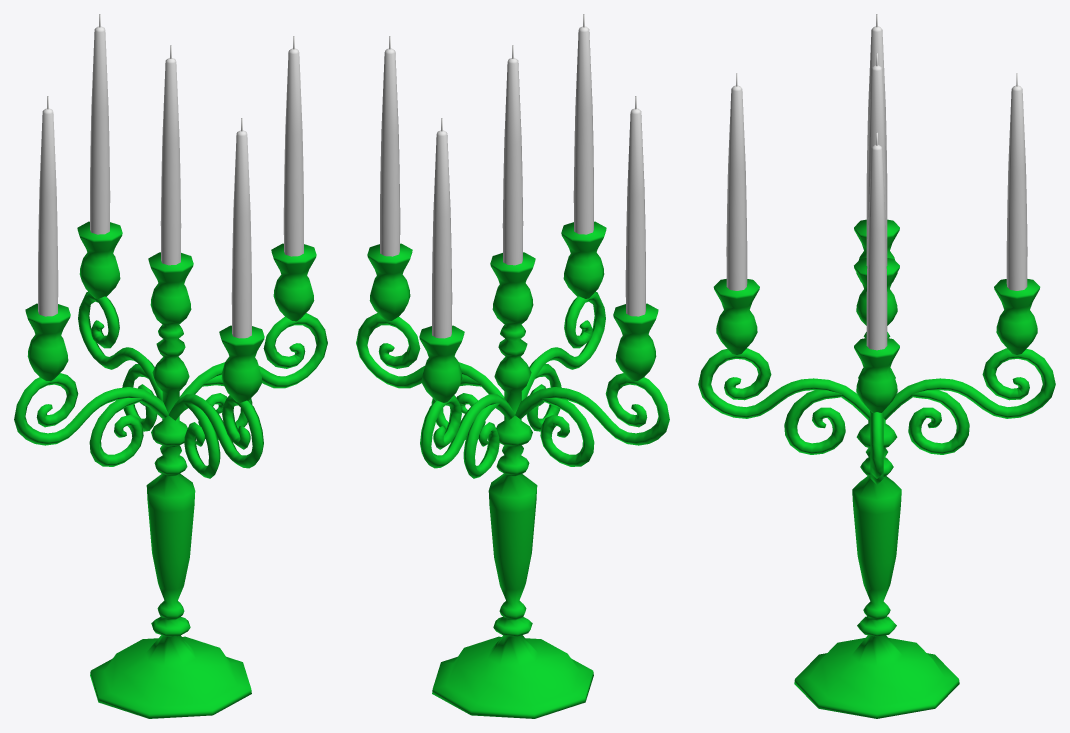
File: candelabra_four.fbx
3 views of the same model, side by side, from view 1: azimuth 30°, elevation 25°; view 2: azimuth 150°, elevation 25°; view 3: azimuth 270°, elevation 25° (orthographic).
Parts seen in each view (by area): view 1: candelabra, candle; view 2: candelabra, candle; view 3: candelabra, candle.
Boxes of the visible parts, x1,y1,x2,y2 form: candelabra: (14, 221, 327, 718); candle: (38, 26, 303, 338); candelabra: (356, 221, 669, 718); candle: (380, 26, 645, 338); candelabra: (698, 219, 1055, 718); candle: (726, 26, 1027, 350).
Bounding box in the file's own units: 27.11 × 52.72 × 27.11.
